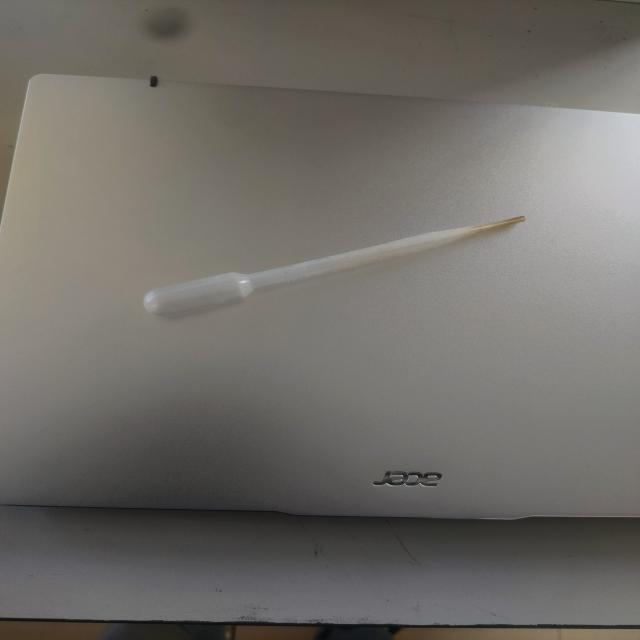Pipette: (111, 178, 556, 335)
